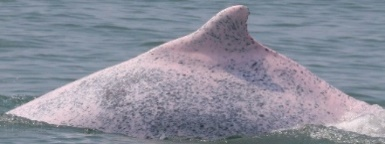fin: (5, 3, 379, 141)
